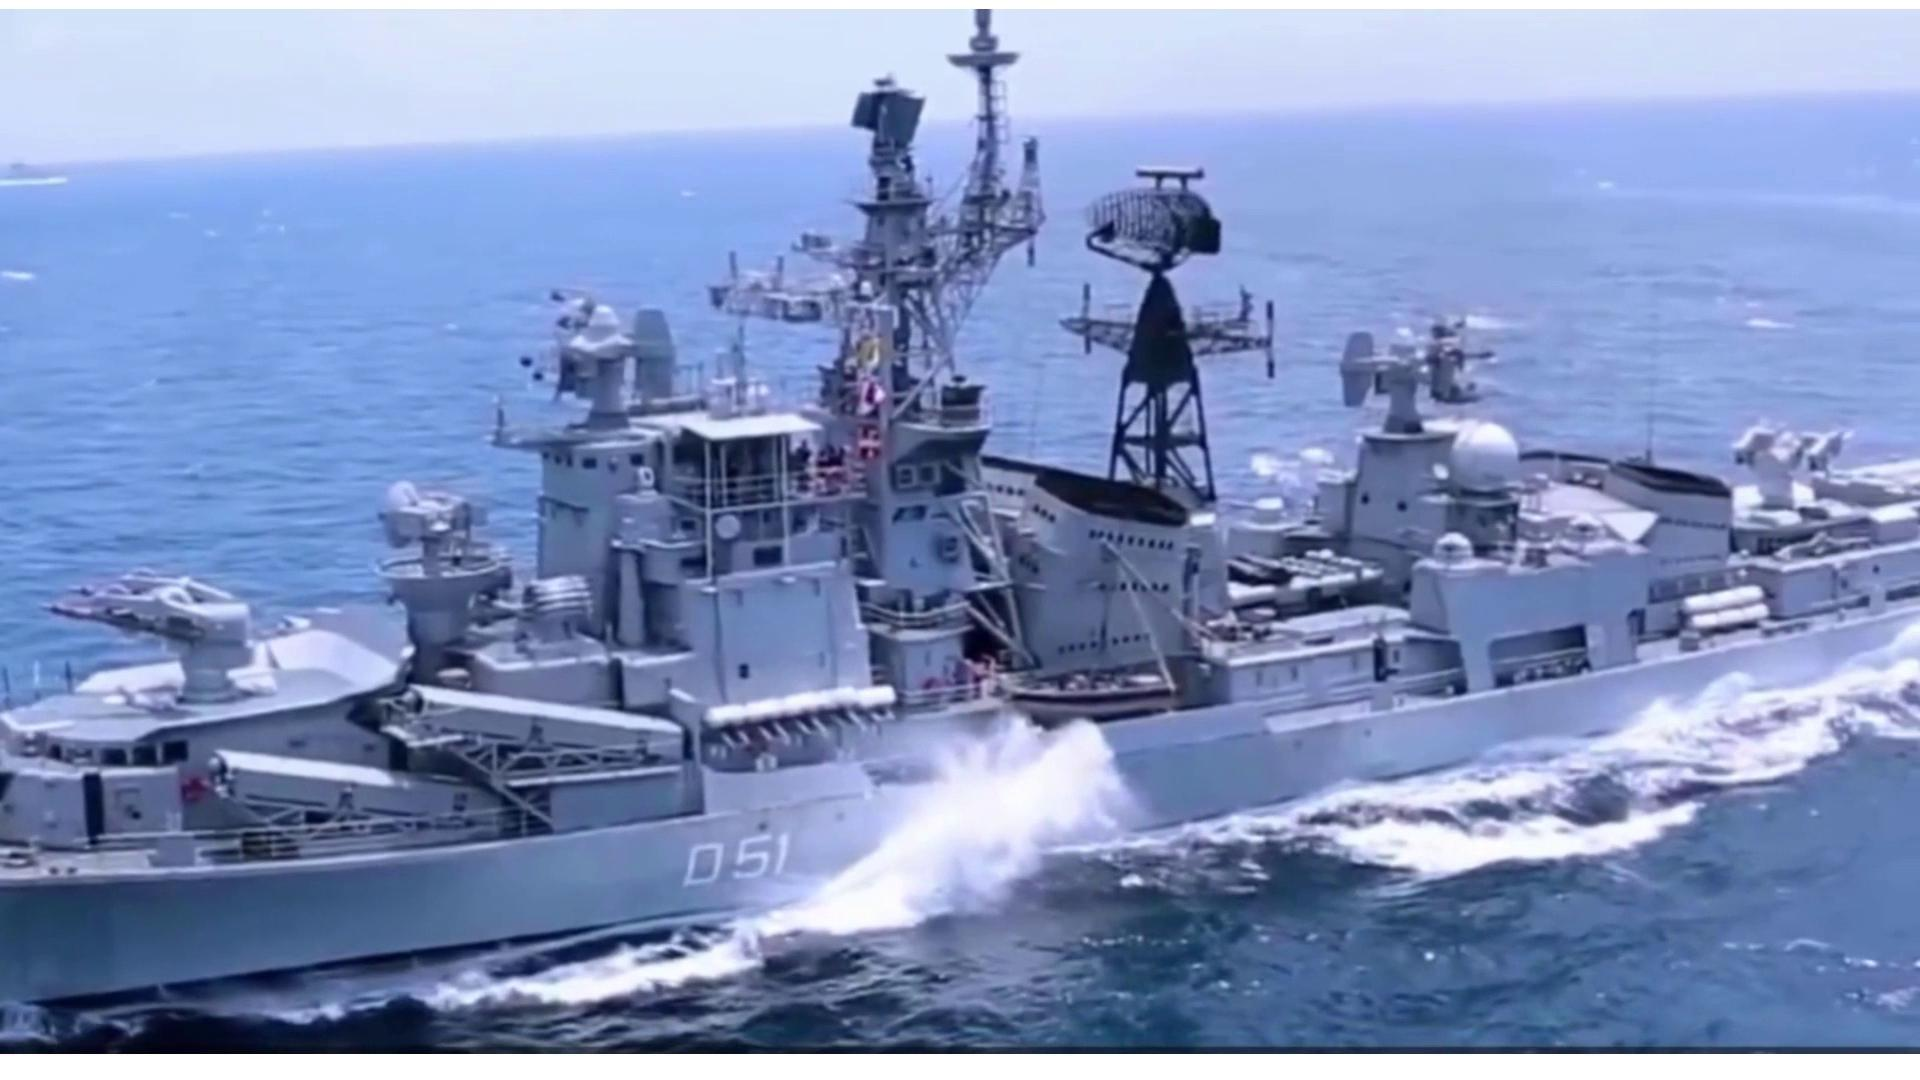OCR: (656, 818, 806, 904)
